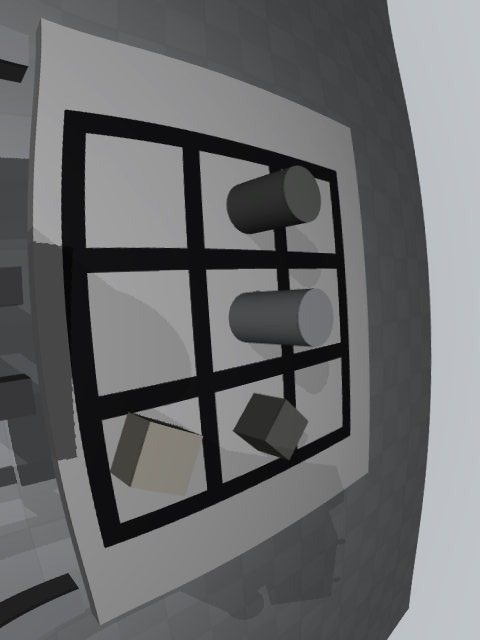can: (229, 288, 333, 347)
cube: (233, 393, 308, 460)
cylinder: (226, 165, 321, 234)
foam: (110, 412, 203, 496)
